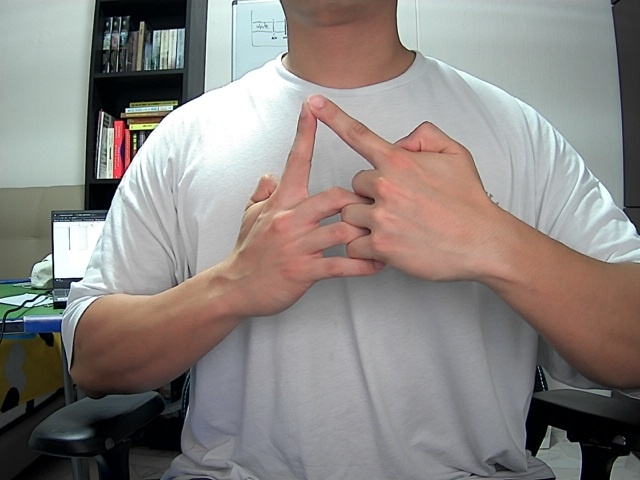Horse: (220, 77, 497, 321)
